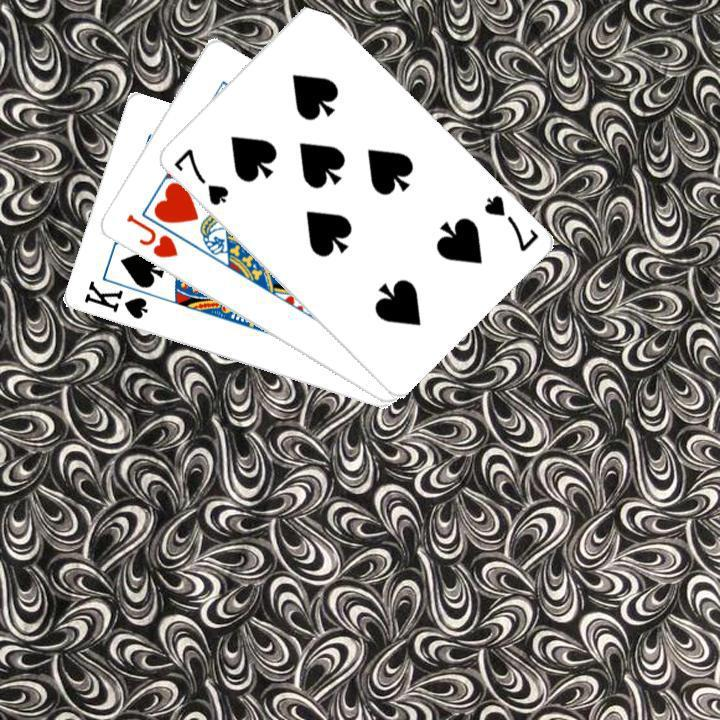7: (168, 144, 231, 208), (478, 190, 540, 254)
J: (121, 209, 180, 261)
K: (79, 277, 150, 322)
